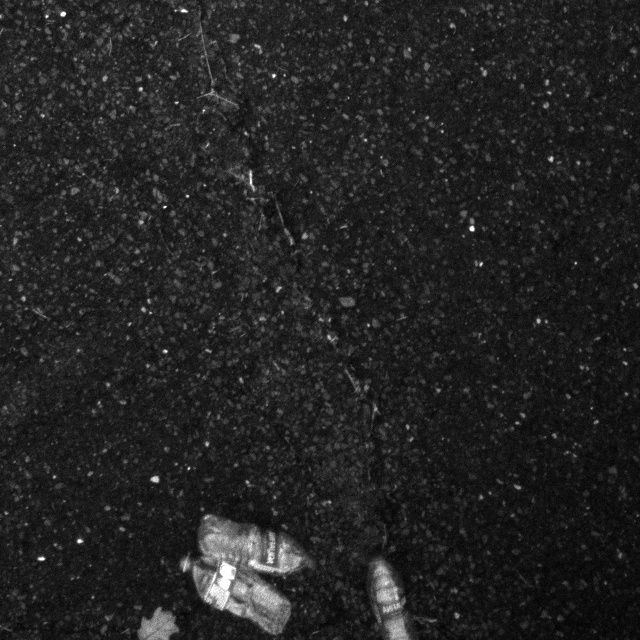bottle: (173, 551, 298, 637), (183, 506, 315, 585), (349, 551, 436, 640)
